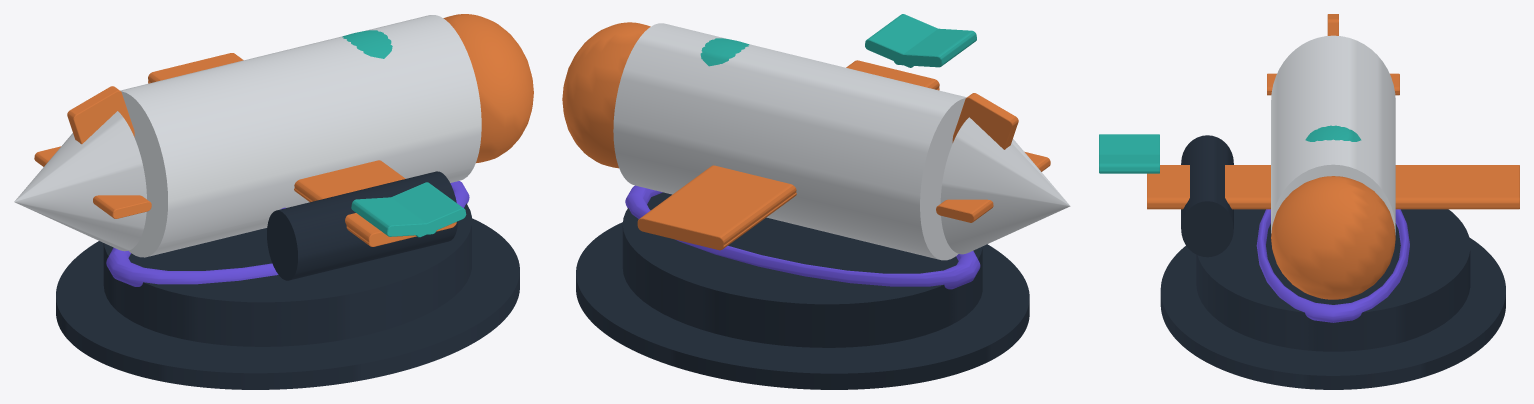
Rendered from 0350_航空航天图鉴_Cavalon旋翼机.glb.
3 renders of one model, left to right at view 1: azimuth 30°, elevation 25°; view 2: azimuth 150°, elevation 25°; view 3: azimuth 270°, elevation 25°, orthographic. The views are drawn at different scales.
Parts seen in each view (by area): view 1: card_0350; view 2: card_0350; view 3: card_0350.
Boxes of the visible parts, x1,y1,x2,y2 form: card_0350: [14, 14, 533, 389]; card_0350: [562, 14, 1070, 389]; card_0350: [1099, 14, 1519, 389].
Size of the model in its own units: 2.1 by 1 by 1.79.
